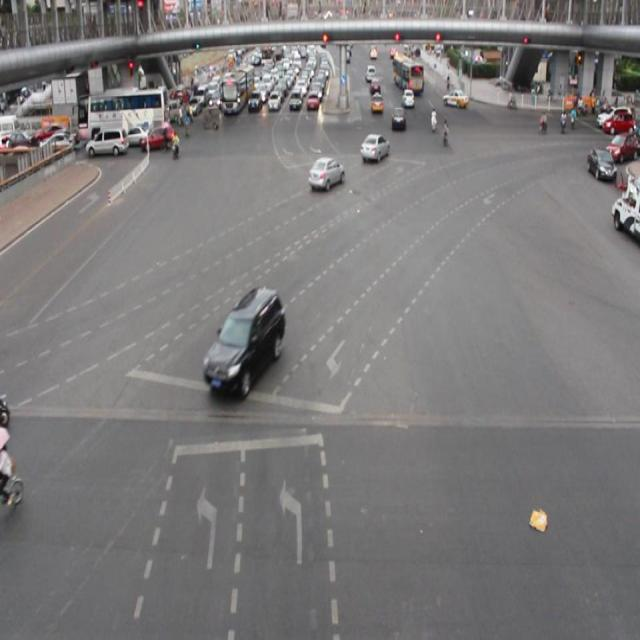car: (201, 287, 286, 399), (306, 154, 346, 194), (358, 129, 388, 168)
